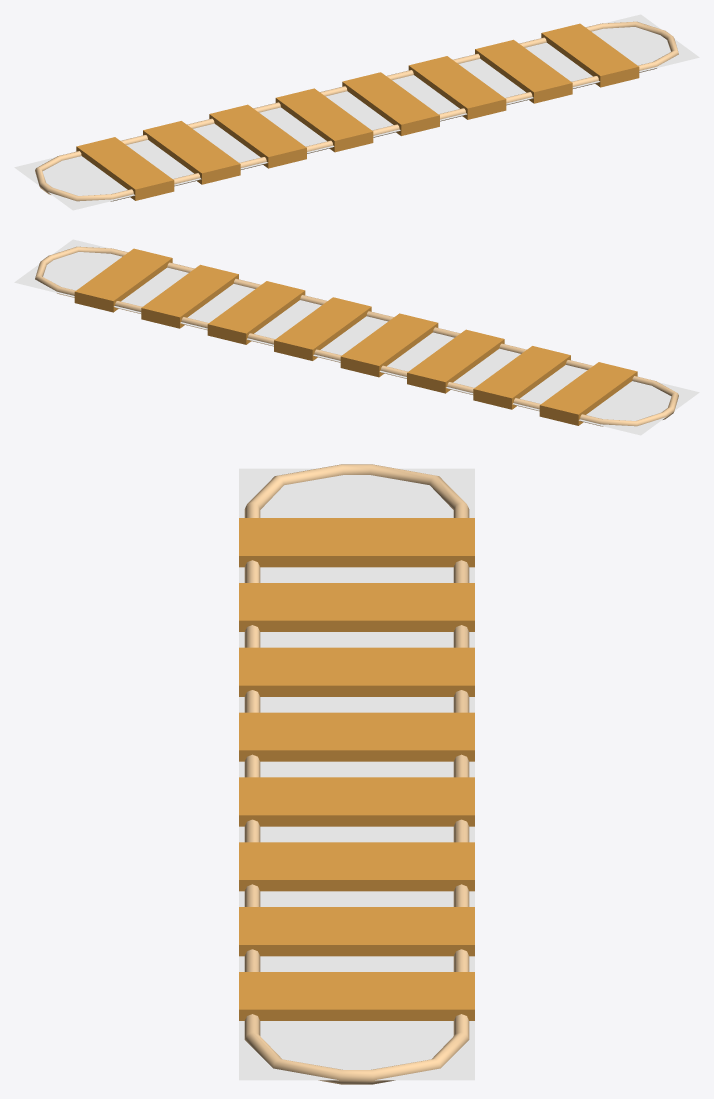
3 views of the same model, one above another, from view 1: azimuth 30°, elevation 25°; view 2: azimuth 150°, elevation 25°; view 3: azimuth 270°, elevation 25° (orthographic). The views are drawn at different scales.
Parts seen in each view (by area): view 1: 立方体.001, 软梯, 平面.014; view 2: 立方体.001, 软梯, 平面.014; view 3: 立方体.001, 软梯, 平面.014.
Part boxes in pixels (x1=…): 立方体.001: x1=76, y1=23, x2=639, y2=200; 软梯: x1=14, y1=14, x2=699, y2=210; 平面.014: x1=35, y1=21, x2=678, y2=201; 立方体.001: x1=74, y1=248, x2=637, y2=425; 软梯: x1=14, y1=239, x2=699, y2=435; 平面.014: x1=35, y1=246, x2=678, y2=426; 立方体.001: x1=239, y1=518, x2=474, y2=1020; 软梯: x1=239, y1=468, x2=474, y2=1080; 平面.014: x1=244, y1=464, x2=469, y2=1084.
Size of the model in its own units: 0.9201 by 0.016 by 0.15.
